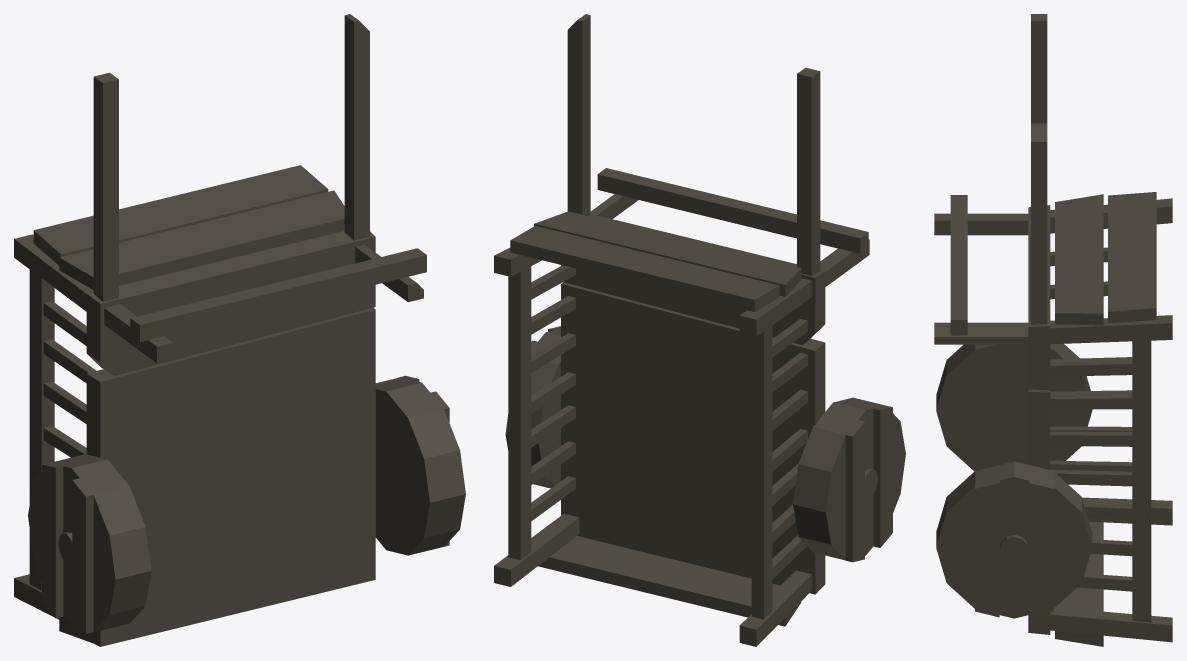
File: Wagon 01.FBX
3 views of the same model, side by side, from view 1: azimuth 30°, elevation 25°; view 2: azimuth 150°, elevation 25°; view 3: azimuth 270°, elevation 25° (orthographic). The views are drawn at different scales.
Parts seen in each view (by area): view 1: Wagon 01; view 2: Wagon 01; view 3: Wagon 01.
Part boxes in pixels (left/top/right/bottom): Wagon 01: left=14, top=14, right=465, bottom=646; Wagon 01: left=494, top=14, right=905, bottom=646; Wagon 01: left=934, top=14, right=1172, bottom=646.
Bounding box in the file's own units: 172 × 110 × 261.
